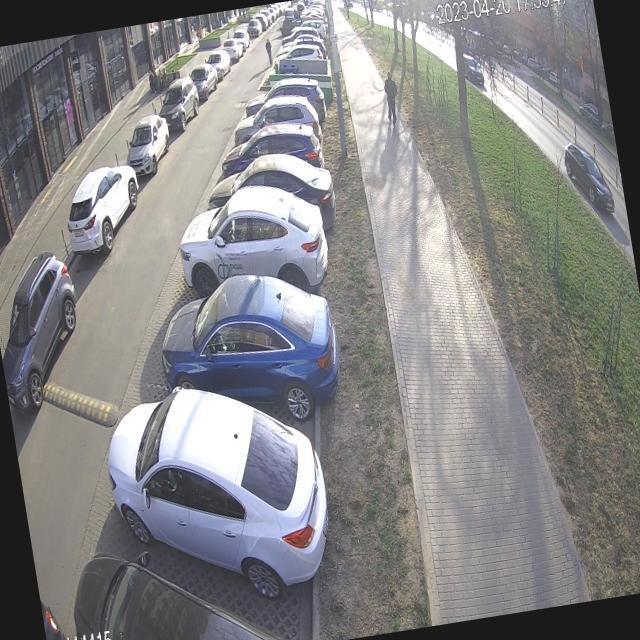person: (380, 70, 402, 129)
